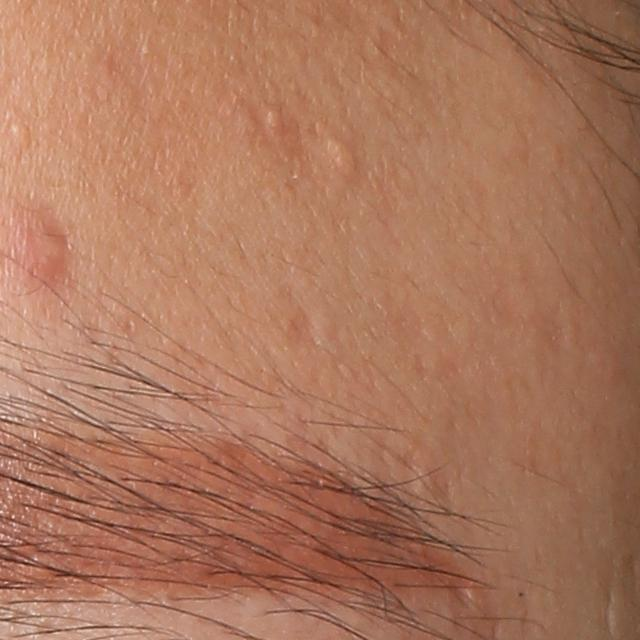atrophic_scar: (284, 305, 327, 351)
comedo: (323, 138, 356, 179), (265, 108, 285, 134)
papule: (5, 207, 82, 289)
